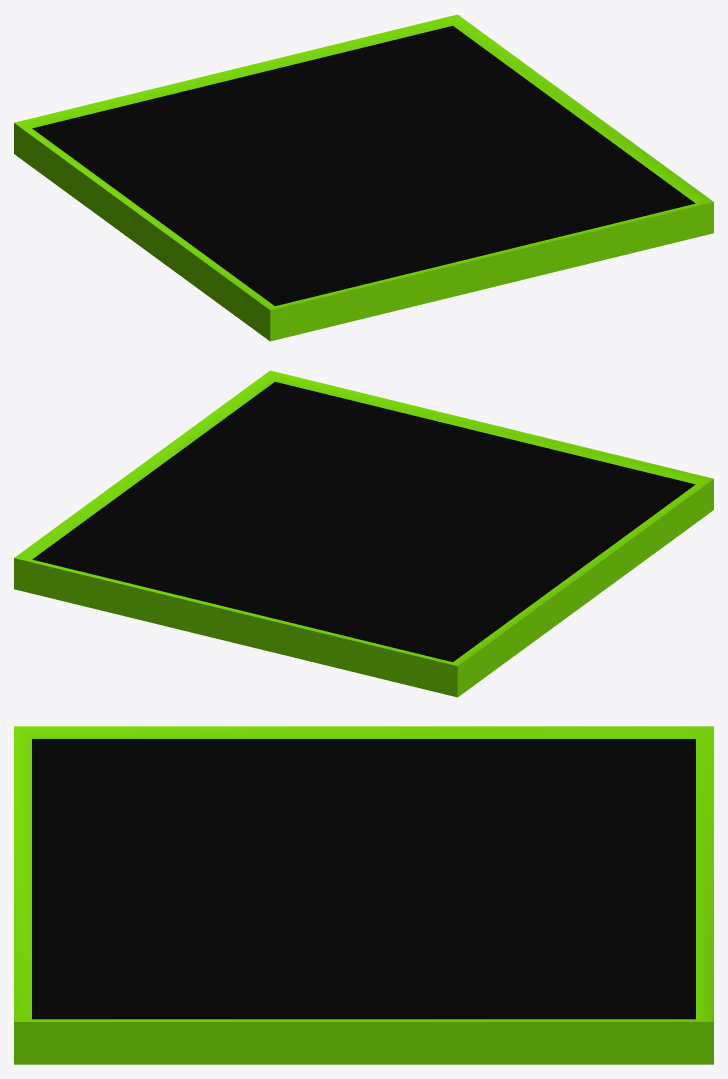
The model's file is Chao_R01.fbx.
3 renders of one model, top to bottom at view 1: azimuth 30°, elevation 25°; view 2: azimuth 150°, elevation 25°; view 3: azimuth 270°, elevation 25°, orthographic. The views are drawn at different scales.
Visible parts, largest first — view 1: pCube1; view 2: pCube1; view 3: pCube1.
Part boxes in pixels (<box>): pCube1: <box>14,14,713,341</box>; pCube1: <box>14,370,713,697</box>; pCube1: <box>14,726,713,1064</box>.
Size of the model in its own units: 1.03 by 0.0695 by 1.03.
